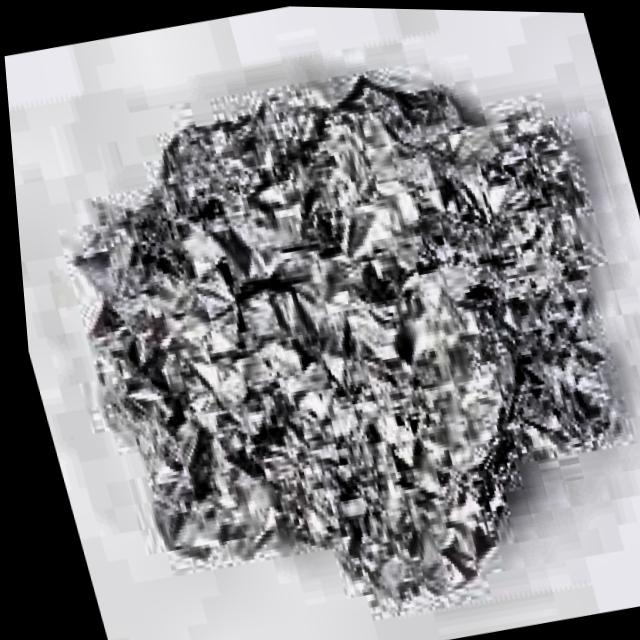Foil: (1, 18, 640, 640)
